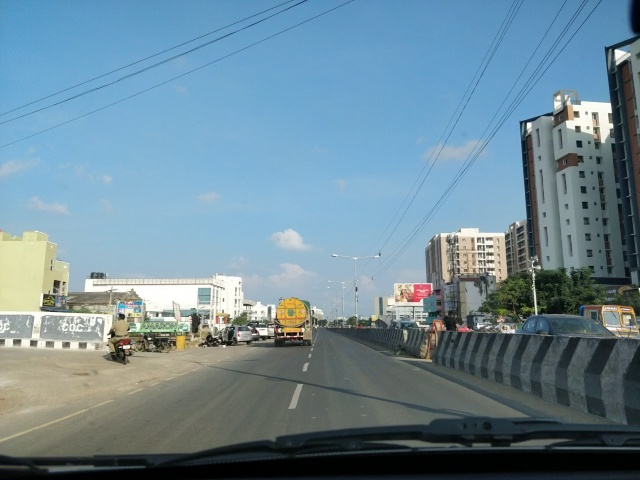car: (520, 308, 634, 384), (216, 324, 253, 344)
motorbike: (106, 315, 136, 363)
truck: (509, 303, 637, 358), (270, 296, 316, 348)
